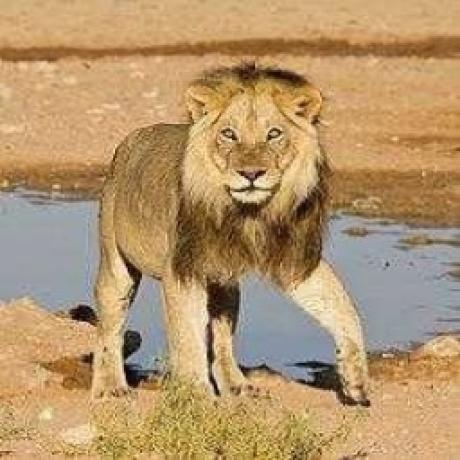Lion: (90, 63, 370, 405)
